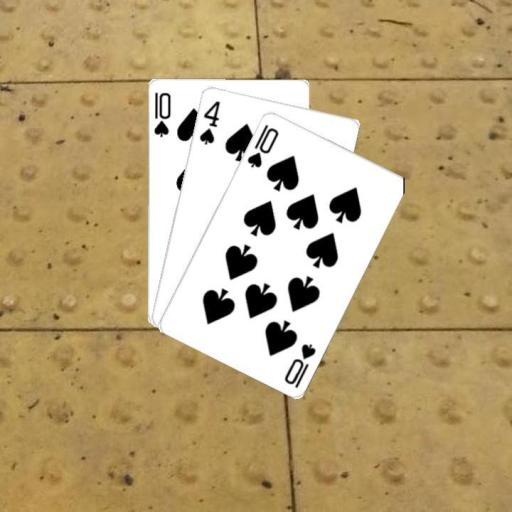10S: (281, 339, 317, 389), (244, 120, 280, 169), (150, 89, 171, 139)
4S: (196, 97, 221, 146)
